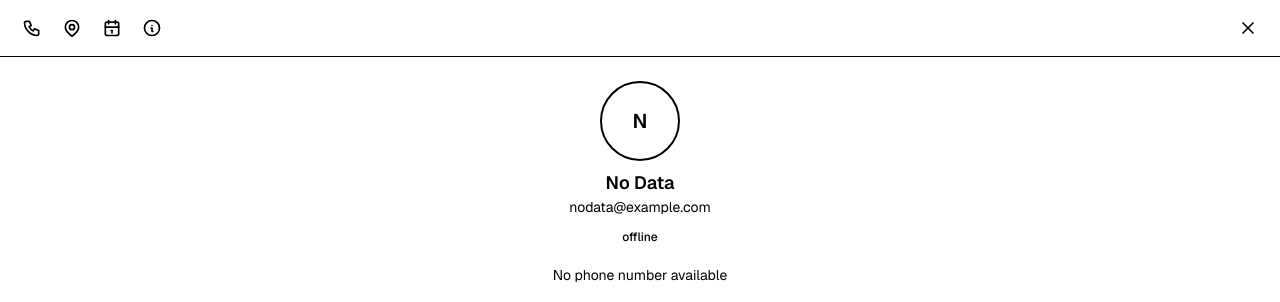
Test: ContactProfile › shows fallback copy for missing tab values
The image size is (1280, 302).
Expected: the text "No phone number available" is shown, [553,265,727,285]
Click the button titled "Address" at (72, 28), box [56,12,88,44]
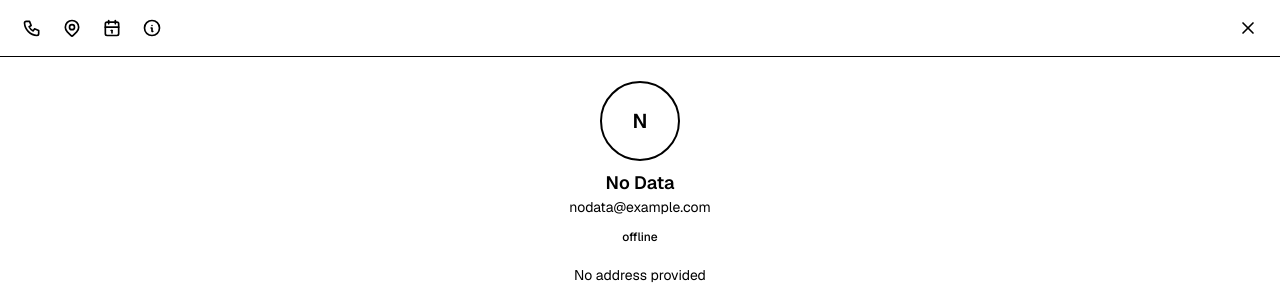
Result: the text "No address provided" is shown at [574,265,706,285]
Click the button titled "Joined" at (112, 28), box [96,12,128,44]
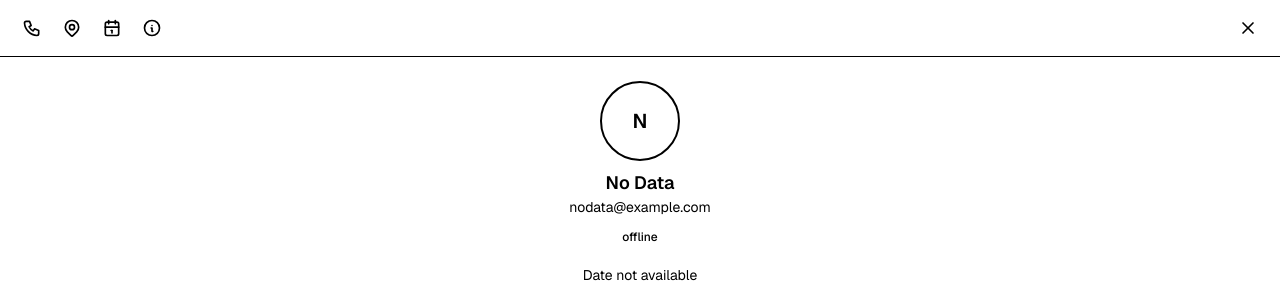
Result: the text "Date not available" is shown at [583,265,697,285]
Click the button titled "More Info" at (152, 28), box [136,12,168,44]
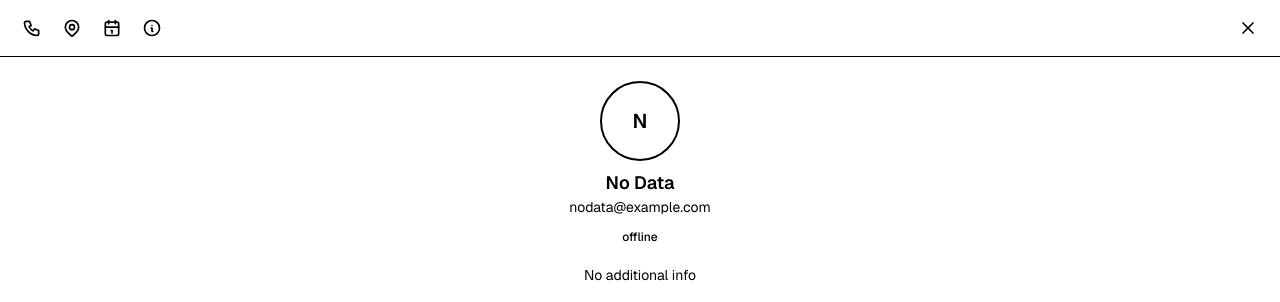
Result: the text "No additional info" is shown at [584,265,696,285]
